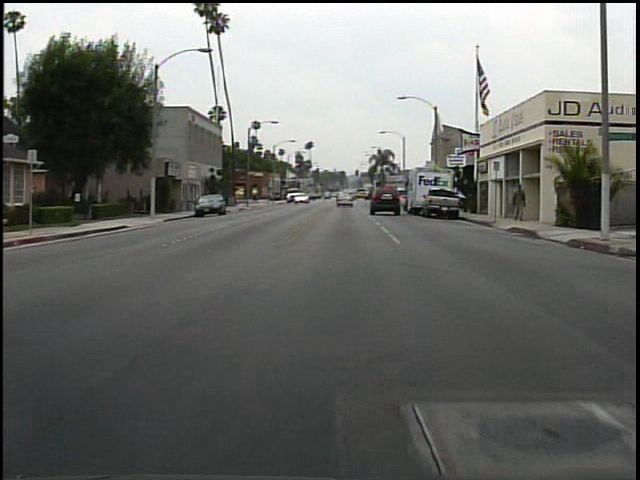person: (509, 183, 529, 223)
